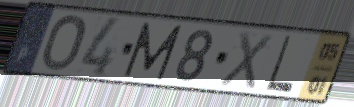4: (78, 15, 120, 79)
8: (175, 28, 215, 83)
L: (263, 34, 296, 96)
M: (121, 20, 185, 82)
O: (39, 13, 88, 73)
X: (216, 29, 275, 92)
